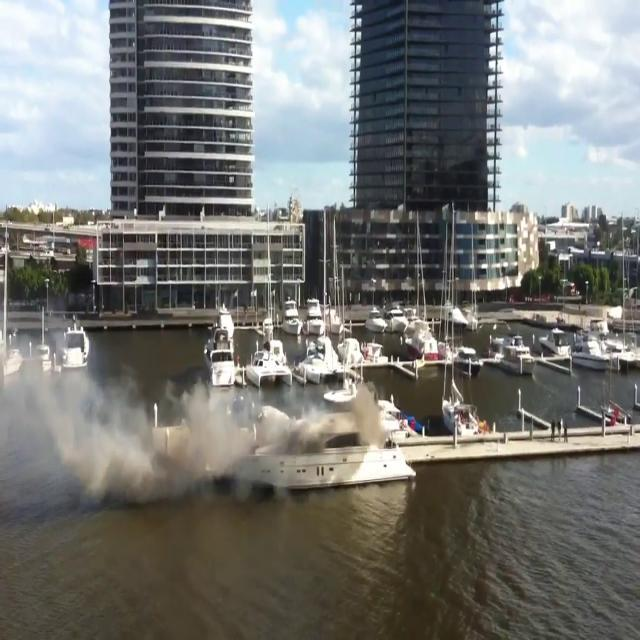Smoke: (0, 327, 280, 505)
